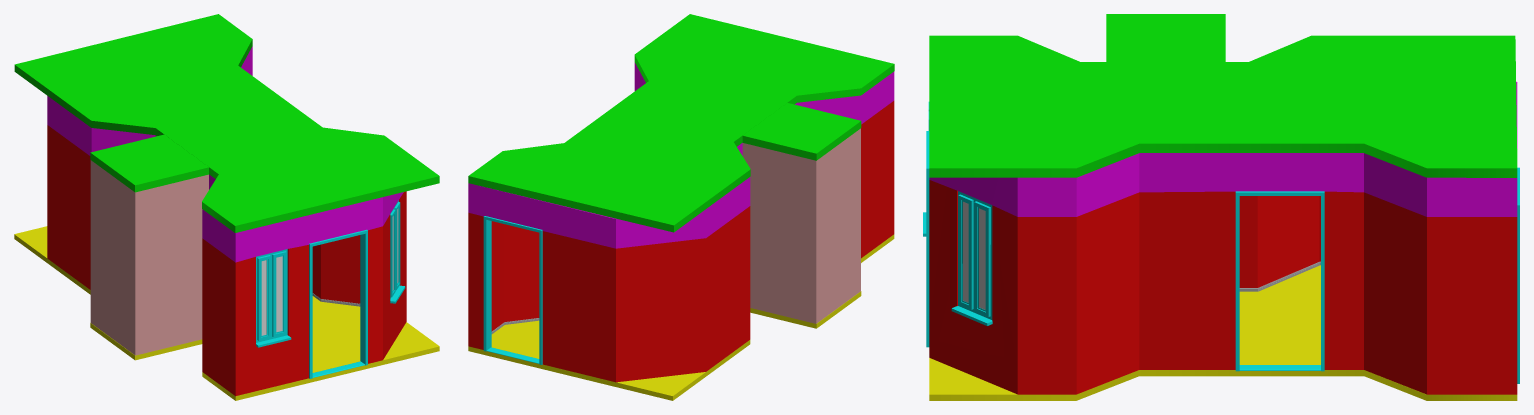
File: FloorPlan507_physics.fbx
The picture shows the model from 3 angles, left to right: view 1: azimuth 30°, elevation 25°; view 2: azimuth 150°, elevation 25°; view 3: azimuth 270°, elevation 25°; orthographic projection. The views are drawn at different scales.
Visible parts, largest first — view 1: FP507:Ceiling_1, FP507:Walls_1, FP507:Walls_2, FP507:Floor_1, FP507:Ceiling_2, FP507:WindowFrame_1, FP507:DoorFrame_1, FP507:WindowFrame_2, FP507:WindowPane_1, FP507:Floor_2; view 2: FP507:Walls_1, FP507:Ceiling_1, FP507:Walls_2, FP507:Ceiling_2, FP507:Floor_1, FP507:DoorFrame_3, FP507:Floor_2; view 3: FP507:Walls_1, FP507:Ceiling_1, FP507:Floor_1, FP507:Ceiling_2, FP507:WindowFrame_2, FP507:DoorFrame_2, FP507:WindowPane_2, FP507:DoorFrame_1, FP507:DoorFrame_3.
Boxes of the visible parts, bbox=[...] form: FP507:Ceiling_1: bbox=[14, 14, 439, 232]; FP507:Walls_1: bbox=[47, 46, 406, 396]; FP507:Walls_2: bbox=[90, 160, 208, 355]; FP507:Floor_1: bbox=[14, 226, 439, 400]; FP507:Ceiling_2: bbox=[90, 134, 208, 192]; FP507:WindowFrame_1: bbox=[256, 249, 291, 347]; FP507:DoorFrame_1: bbox=[309, 229, 367, 378]; FP507:WindowFrame_2: bbox=[390, 200, 405, 303]; FP507:WindowPane_1: bbox=[261, 256, 282, 335]; FP507:Floor_2: bbox=[90, 323, 202, 360]; FP507:Walls_1: bbox=[468, 62, 894, 382]; FP507:Ceiling_1: bbox=[468, 14, 894, 232]; FP507:Walls_2: bbox=[742, 128, 860, 323]; FP507:Ceiling_2: bbox=[742, 103, 861, 160]; FP507:Floor_1: bbox=[468, 234, 894, 400]; FP507:DoorFrame_3: bbox=[483, 216, 542, 364]; FP507:Floor_2: bbox=[750, 291, 861, 328]; FP507:Walls_1: bbox=[929, 81, 1517, 394]; FP507:Ceiling_1: bbox=[929, 35, 1517, 177]; FP507:Floor_1: bbox=[929, 265, 1517, 400]; FP507:Ceiling_2: bbox=[1106, 14, 1225, 61]; FP507:WindowFrame_2: bbox=[951, 191, 992, 325]; FP507:DoorFrame_2: bbox=[1235, 191, 1324, 371]; FP507:WindowPane_2: bbox=[963, 201, 985, 309]; FP507:DoorFrame_1: bbox=[926, 131, 929, 347]; FP507:DoorFrame_3: bbox=[1517, 167, 1519, 383].
Size of the model in its own units: 382 by 268 by 624.
